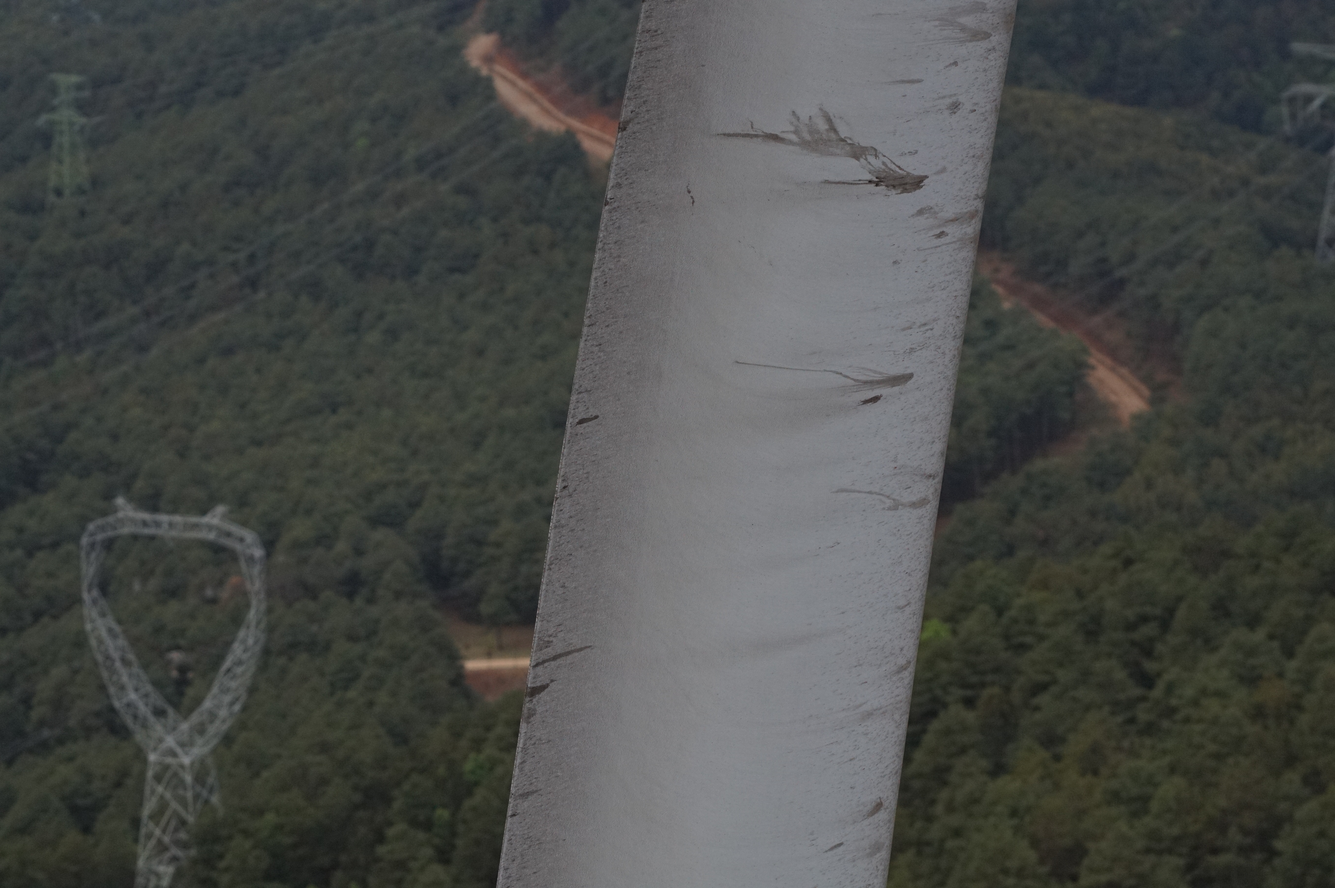Dirt: (711, 107, 932, 197)
